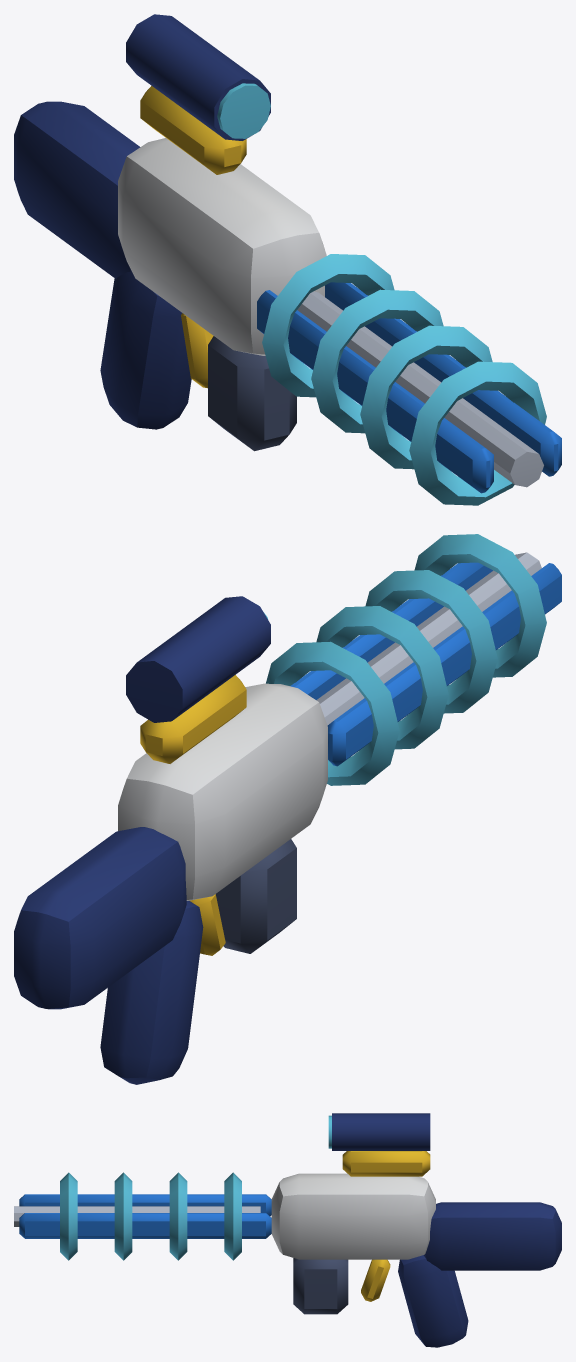
The model's file is w_j_railgun.glb.
3 renders of one model, top to bottom at view 1: azimuth 30°, elevation 25°; view 2: azimuth 150°, elevation 25°; view 3: azimuth 270°, elevation 25°, orthographic. The views are drawn at different scales.
Visible parts, largest first — view 1: body; view 2: body; view 3: body.
Boxes of the visible parts, box(x1,y1,x2,y2) form: body: box(14, 14, 561, 505); body: box(14, 534, 561, 1084); body: box(14, 1113, 561, 1347).
Size of the model in its own units: 0.2106 by 0.605 by 1.3.
